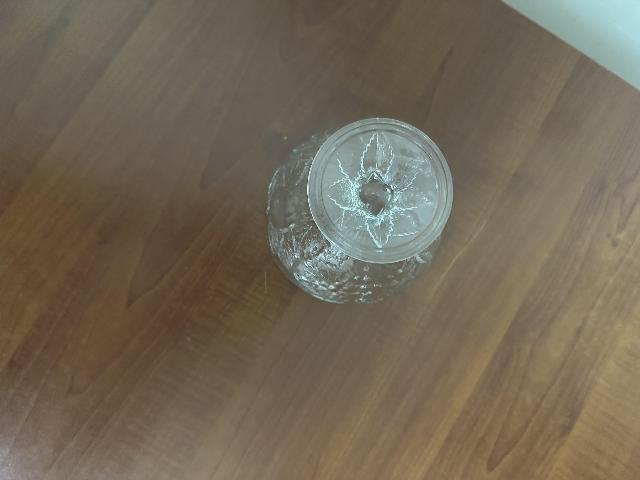Cam: (263, 110, 459, 305)
